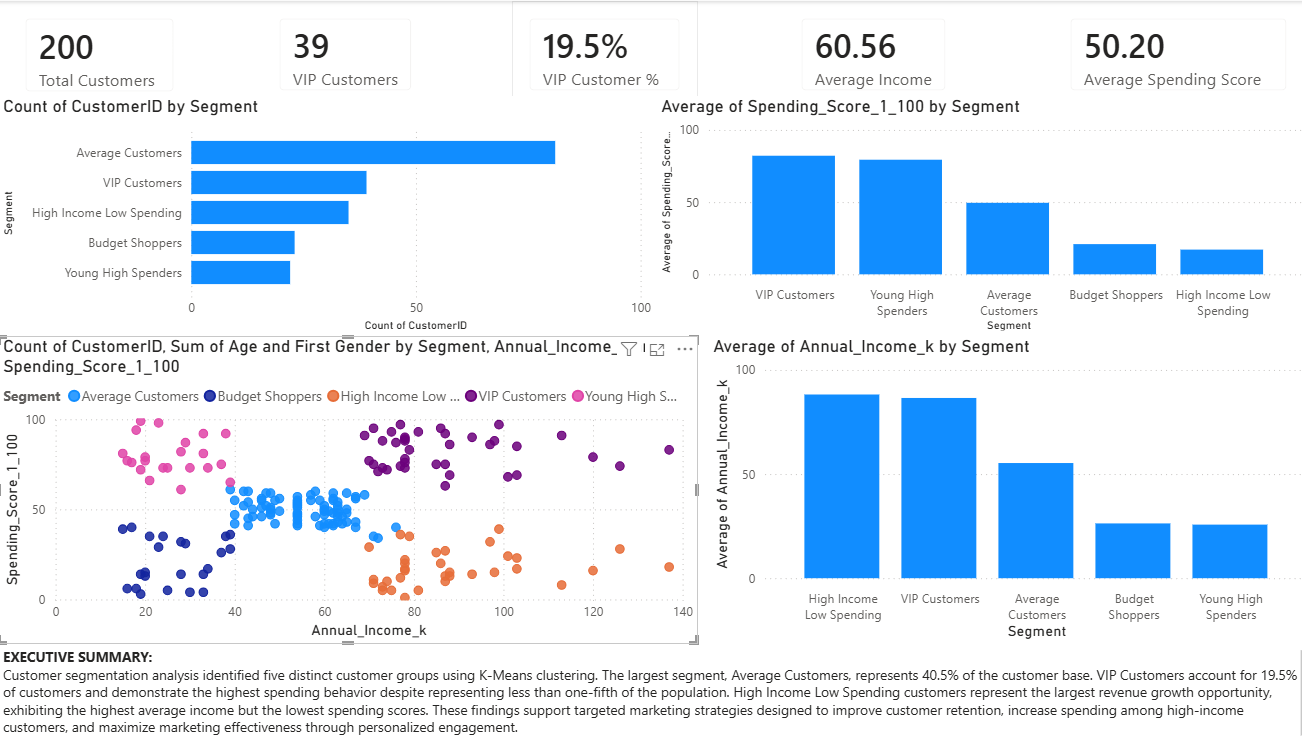

The dashboard page shown, as its layout file describes it:
{"tool":"powerbi","page":{"name":"Page 1","canvas":[1280,720],"ordinal":0},"visuals":[{"type":"cardVisual","fields":{"Data":["customer_segments.Total Customers"]},"box":[9.7,0,179,105],"z":0},{"type":"cardVisual","fields":{"Data":["customer_segments.VIP Customers"]},"box":[257,0,163,104.8],"z":1},{"type":"cardVisual","fields":{"Data":["customer_segments.VIP Customer %"]},"box":[499.7,0,180.9,104.8],"z":2},{"type":"cardVisual","fields":{"Data":["customer_segments.Average Income"]},"box":[764.8,0,174.6,104.8],"z":3},{"type":"cardVisual","fields":{"Data":["customer_segments.Average Spending Score"]},"box":[1026.3,0,244.5,104.8],"z":4},{"type":"clusteredBarChart","fields":{"Category":["customer_segments.Segment"],"Y":["CountNonNull(customer_segments.CustomerID)"]},"box":[0,92.4,640,233.4],"z":5},{"type":"clusteredColumnChart","fields":{"Category":["customer_segments.Segment"],"Y":["Avg(customer_segments.Spending_Score_1_100)"]},"box":[640,92.4,640,233.4],"z":6},{"type":"scatterChart","fields":{"Series":["customer_segments.Segment"],"Y":["customer_segments.Spending_Score_1_100"],"X":["customer_segments.Annual_Income_k"]},"box":[0,325.8,680.9,299.6],"z":7},{"type":"textbox","box":[0,625.4,1280,94.3],"z":8},{"type":"clusteredColumnChart","fields":{"Category":["customer_segments.Segment"],"Y":["Avg(customer_segments.Annual_Income_k)"]},"box":[690.6,325.8,589.4,299.6],"z":9}]}

Visuals, with their boxes in screenshot pixels (x1, y1, x2, y2), scaled from the page's 1280x720 canvas onto the 1302x739 screenshot:
cardVisual - customer_segments.Total Customers: BBox(10, 0, 192, 108)
cardVisual - customer_segments.VIP Customers: BBox(261, 0, 427, 108)
cardVisual - customer_segments.VIP Customer %: BBox(508, 0, 692, 108)
cardVisual - customer_segments.Average Income: BBox(778, 0, 956, 108)
cardVisual - customer_segments.Average Spending Score: BBox(1044, 0, 1293, 108)
clusteredBarChart - customer_segments.Segment x CountNonNull(customer_segments.CustomerID): BBox(0, 95, 651, 334)
clusteredColumnChart - customer_segments.Segment x Avg(customer_segments.Spending_Score_1_100): BBox(651, 95, 1301, 334)
scatterChart - customer_segments.Segment x customer_segments.Spending_Score_1_100: BBox(0, 334, 693, 642)
textbox: BBox(0, 642, 1301, 738)
clusteredColumnChart - customer_segments.Segment x Avg(customer_segments.Annual_Income_k): BBox(702, 334, 1301, 642)
